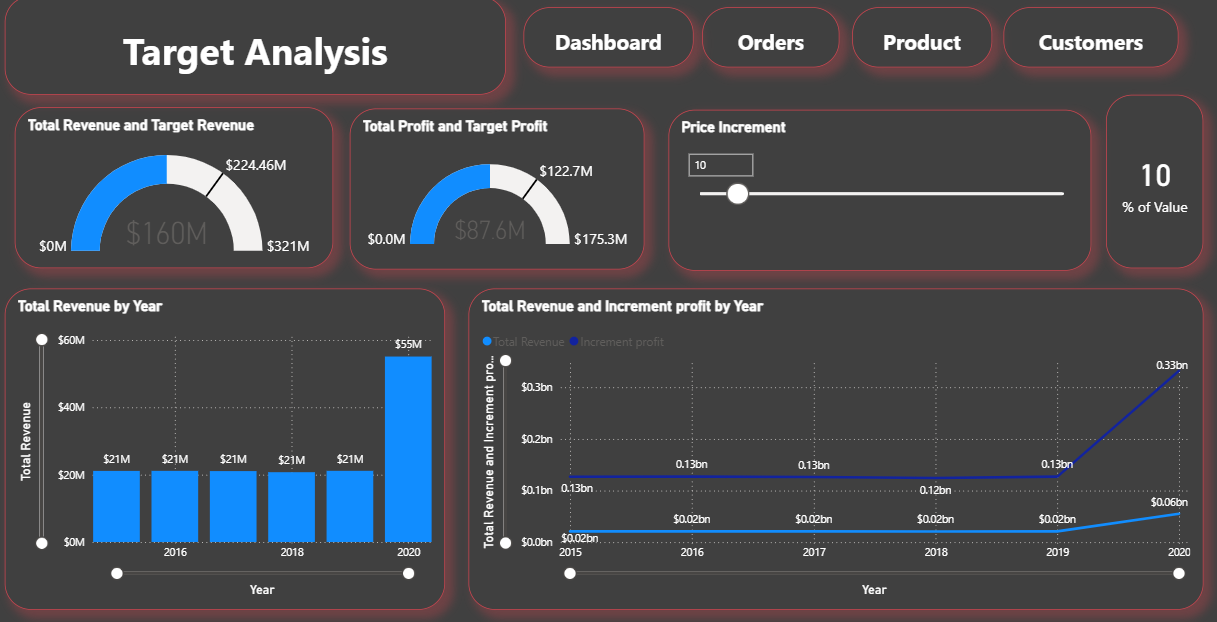

What the dashboard file says about the page in this screenshot:
{"tool":"powerbi","page":{"name":"Target ","canvas":[1400,720],"ordinal":6},"visuals":[{"type":"textbox","box":[10,0,572.9,112.9],"z":0},{"type":"gauge","fields":{"TargetValue":["All Measure.Target Revenue"],"Y":["All Measure.Total Revenue"]},"box":[21.4,127.1,364.3,184.3],"z":2000},{"type":"gauge","fields":{"TargetValue":["All Measure.Target Profit"],"Y":["All Measure.Total Profit"]},"box":[404.3,128.6,337.1,184.3],"z":3000},{"type":"clusteredColumnChart","fields":{"Y":["All Measure.Total Revenue"],"Category":["Calendar Table.Date.Variation.Date Hierarchy.Year"]},"box":[10,334.3,502.9,367.1],"z":4000},{"type":"lineChart","fields":{"Y":["All Measure.Total Revenue","All Measure.Increment profit"],"Category":["Calendar Table.Date.Variation.Date Hierarchy.Year"]},"box":[540,334.3,840,367.1],"z":5000},{"type":"actionButton","title":"Dashboard","box":[602.9,12.9,194.3,68.6],"z":6000},{"type":"actionButton","title":"Orders","box":[807.1,12.9,157.1,68.6],"z":7000},{"type":"actionButton","title":"Product","box":[978.6,12.9,160,68.6],"z":8000},{"type":"actionButton","title":"Customers","box":[1151.4,12.9,200,68.6],"z":9000},{"type":"slicer","title":"Price Increment","fields":{"Values":["Increment Price.Increment Price"]},"box":[768.6,130,482.9,184.3],"z":10000},{"type":"card","fields":{"Values":["Increment Price.% of Value"]},"box":[1268.6,112.9,111.4,198.6],"z":11000}]}

Visuals, with their boxes in screenshot pixels (x1, y1, x2, y2), scaled from the page's 1400x720 canvas onto the 1217x622 screenshot:
textbox: [9, 0, 507, 98]
gauge - All Measure.Target Revenue x All Measure.Total Revenue: [19, 110, 335, 269]
gauge - All Measure.Target Profit x All Measure.Total Profit: [351, 111, 644, 270]
clusteredColumnChart - All Measure.Total Revenue x Calendar Table.Date.Variation.Date Hierarchy.Year: [9, 289, 446, 606]
lineChart - All Measure.Total Revenue x All Measure.Increment profit: [469, 289, 1200, 606]
"Dashboard" actionButton: [524, 11, 693, 70]
"Orders" actionButton: [702, 11, 838, 70]
"Product" actionButton: [851, 11, 990, 70]
"Customers" actionButton: [1001, 11, 1175, 70]
"Price Increment" slicer: [668, 112, 1088, 272]
card - Increment Price.% of Value: [1103, 98, 1200, 269]
